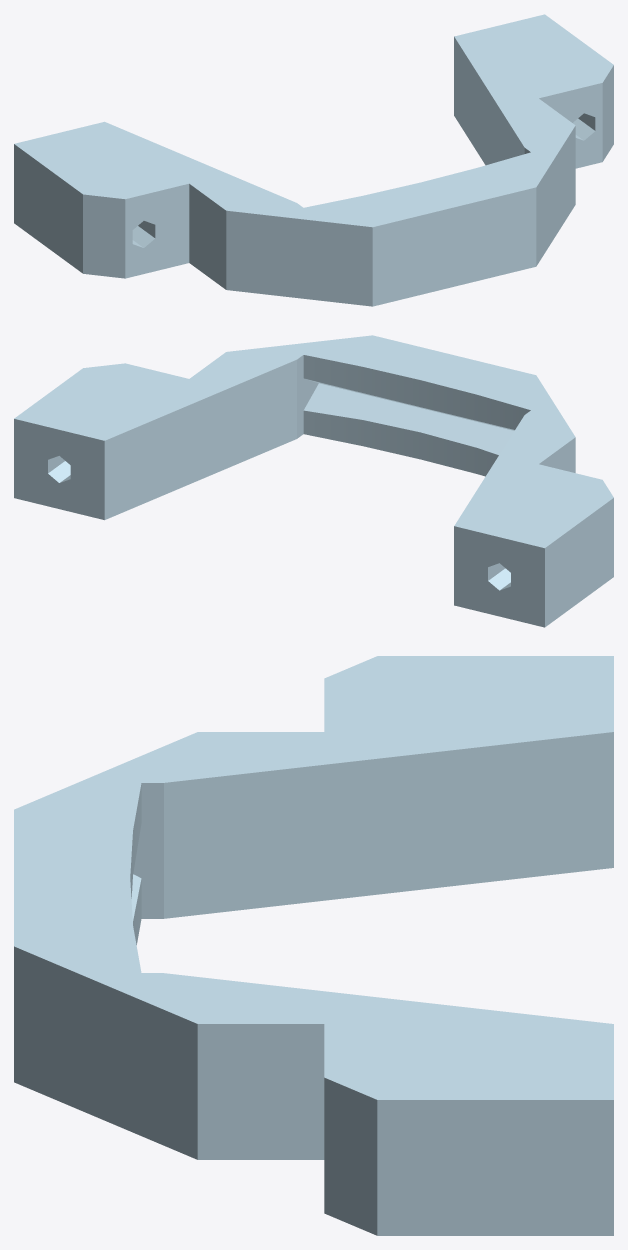
The model's file is Holder-R300.gltf.
The picture shows the model from 3 angles, top to bottom: view 1: azimuth 30°, elevation 25°; view 2: azimuth 150°, elevation 25°; view 3: azimuth 270°, elevation 25°; orthographic projection. The views are drawn at different scales.
Visible parts, largest first — view 1: Part 1; view 2: Part 1; view 3: Part 1.
Part boxes in pixels (bbox=[...]): Part 1: bbox=[14, 14, 613, 306]; Part 1: bbox=[14, 335, 613, 627]; Part 1: bbox=[14, 656, 613, 1235].
Size of the model in its own units: 0.14 by 0.02 by 0.08.
